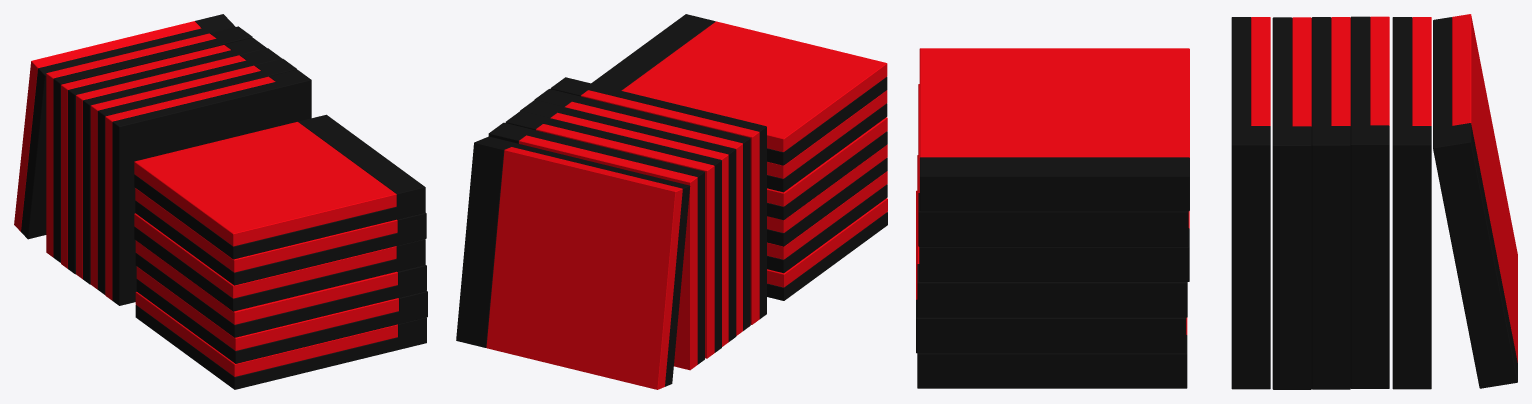
The model's file is Dvd.glb.
3 renders of one model, left to right at view 1: azimuth 30°, elevation 25°; view 2: azimuth 150°, elevation 25°; view 3: azimuth 270°, elevation 25°, orthographic. The views are drawn at different scales.
Visible parts, largest first — view 1: cd2.011; view 2: cd2.011; view 3: cd2.011.
Part boxes in pixels (left/top/right/bottom): cd2.011: left=14, top=14, right=427, bottom=389; cd2.011: left=456, top=14, right=887, bottom=389; cd2.011: left=916, top=14, right=1517, bottom=389.
Size of the model in its own units: 0.2795 by 0.2502 by 0.5511.
